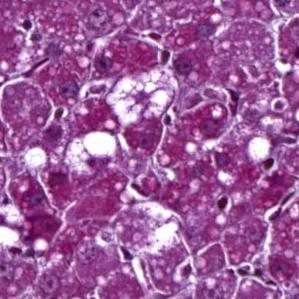ballooning: (104, 63, 181, 126), (106, 198, 184, 258)
